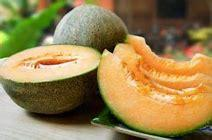Melon Ripe: (97, 49, 212, 136), (0, 44, 102, 114)
